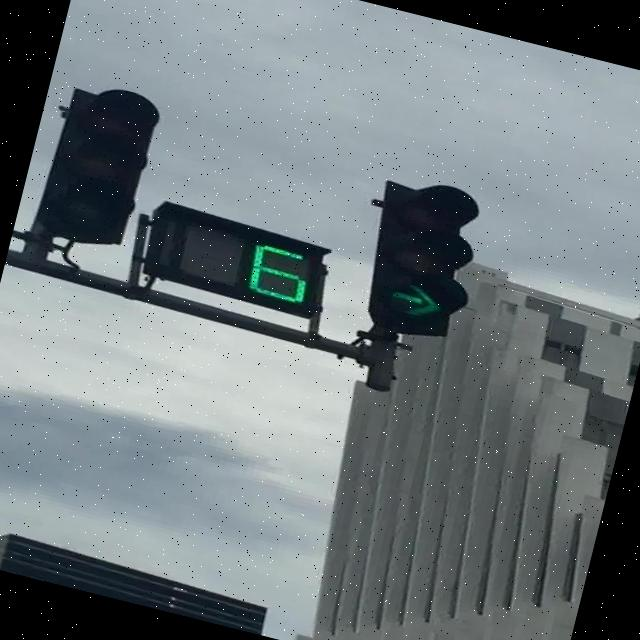green_light: (349, 170, 493, 346)
